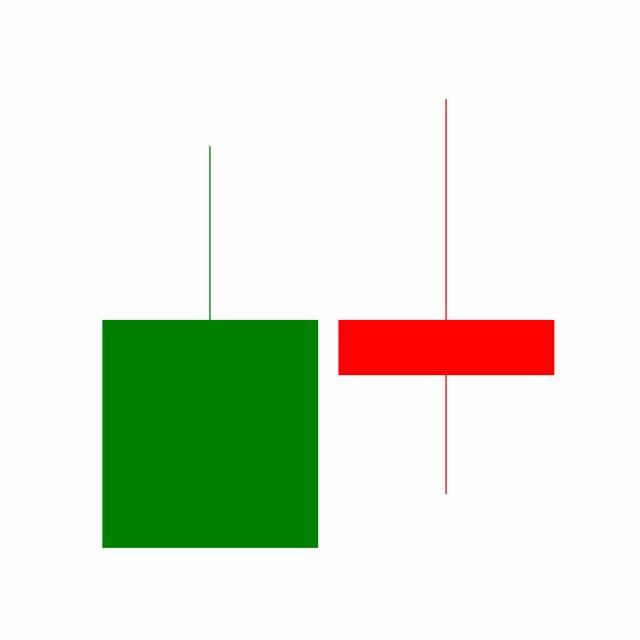Spinning Top: (328, 95, 566, 499)
